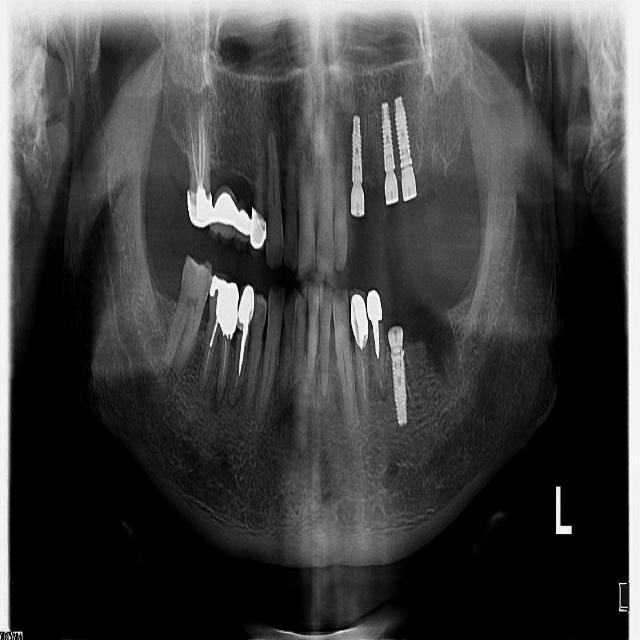Crown: (209, 188, 238, 241), (348, 287, 368, 347), (234, 199, 251, 254), (249, 207, 266, 260), (187, 191, 211, 228), (237, 283, 255, 329)
Filling: (209, 276, 238, 338)
Implant: (393, 95, 413, 167), (391, 349, 407, 426), (381, 104, 394, 170), (351, 116, 363, 180)
Periapical lesion: (208, 384, 233, 412)
Root Canal Treatment: (190, 117, 205, 187), (198, 108, 202, 186), (221, 340, 227, 389), (360, 345, 365, 402), (204, 348, 210, 380), (233, 375, 238, 392)
